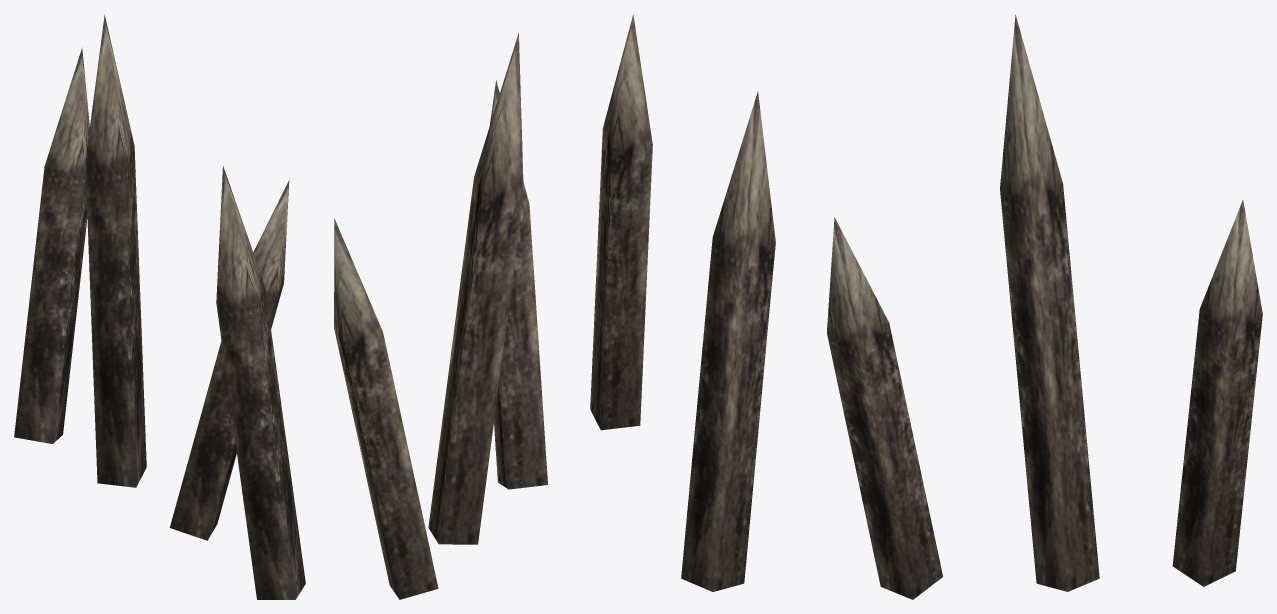
The model's file is SC_yonghengsenlin_33.FBX.
3 views of the same model, side by side, from view 1: azimuth 30°, elevation 25°; view 2: azimuth 150°, elevation 25°; view 3: azimuth 270°, elevation 25° (orthographic). The views are drawn at different scales.
Visible parts, largest first — view 1: SC_yonghengsenlin_33; view 2: SC_yonghengsenlin_33; view 3: SC_yonghengsenlin_33.
Part boxes in pixels (bbox=[...]): SC_yonghengsenlin_33: bbox=[14, 15, 305, 599]; SC_yonghengsenlin_33: bbox=[334, 15, 652, 599]; SC_yonghengsenlin_33: bbox=[681, 14, 1262, 599].
Bounding box in the file's own units: 44.64 × 173 × 166.
